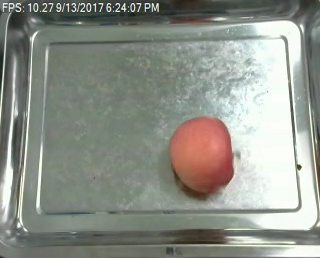Apple: (169, 117, 235, 192)
